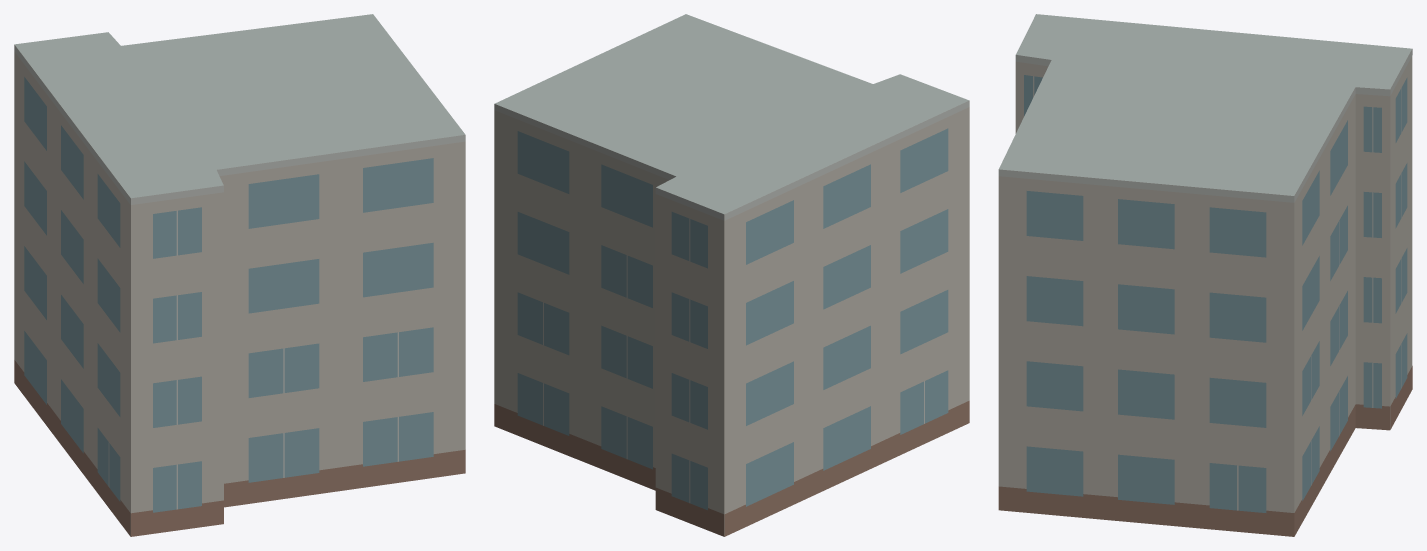
The model's file is survey-upis-32663586.glb.
The picture shows the model from 3 angles, left to right: view 1: azimuth 30°, elevation 25°; view 2: azimuth 150°, elevation 25°; view 3: azimuth 270°, elevation 25°; orthographic projection. The views are drawn at different scales.
Parts seen in each view (by area): view 1: survey-upis-32663586.tmp; view 2: survey-upis-32663586.tmp; view 3: survey-upis-32663586.tmp.
Part boxes in pixels (<box>): survey-upis-32663586.tmp: <box>14,14,465,536</box>; survey-upis-32663586.tmp: <box>494,14,969,536</box>; survey-upis-32663586.tmp: <box>998,14,1412,536</box>.
Bounding box in the file's own units: 13.99 × 12.2 × 13.43.
